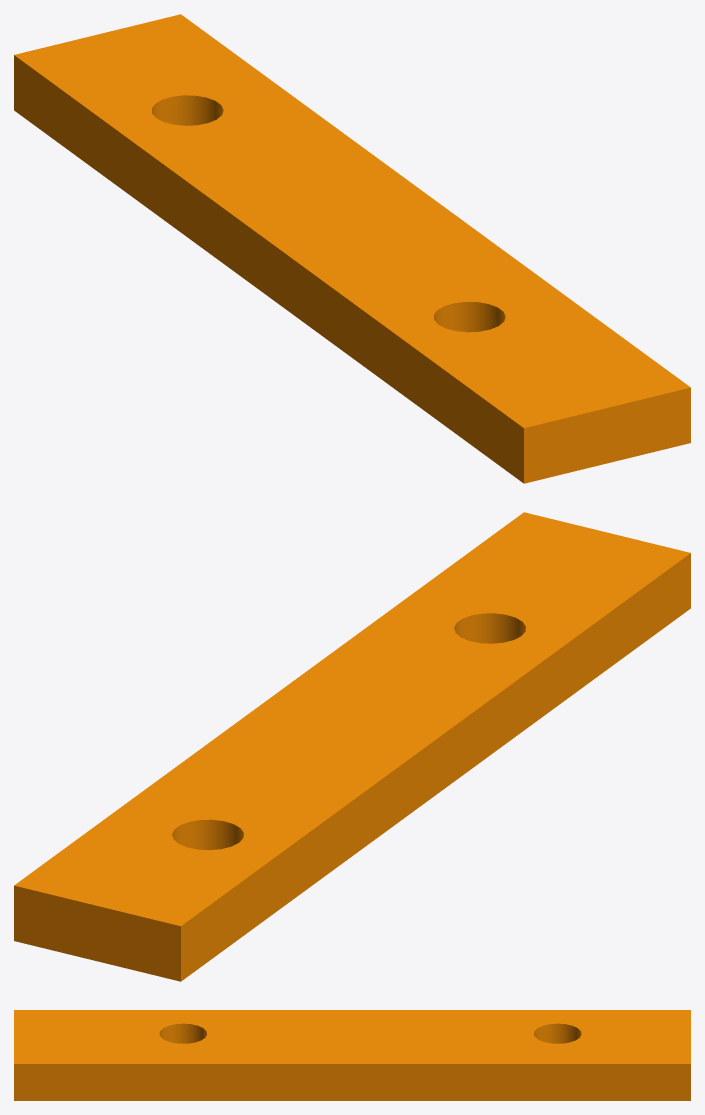
The picture shows the model from 3 angles, top to bottom: view 1: azimuth 30°, elevation 25°; view 2: azimuth 150°, elevation 25°; view 3: azimuth 270°, elevation 25°; orthographic projection. The views are drawn at different scales.
Parts seen in each view (by area): view 1: re; view 2: re; view 3: re.
Part boxes in pixels (x1,y1,x2,y2): re: (14,14,690,483); re: (14,512,690,981); re: (14,1010,690,1100).
Bounding box in the file's own units: 0.0945 × 0.03 × 0.5.
